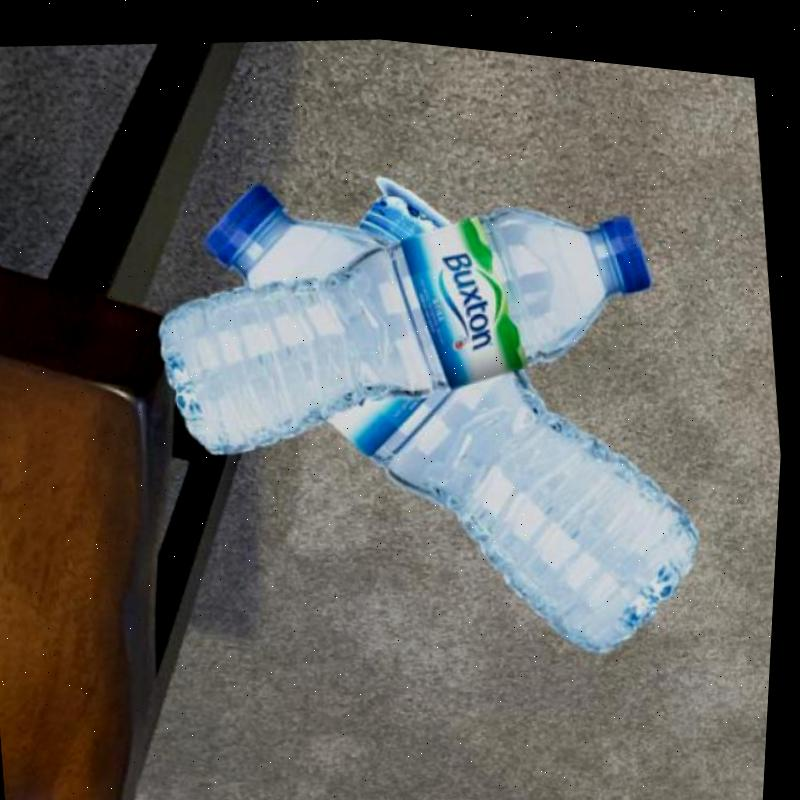botella: (182, 122, 737, 697), (140, 149, 678, 492), (359, 173, 448, 248)
